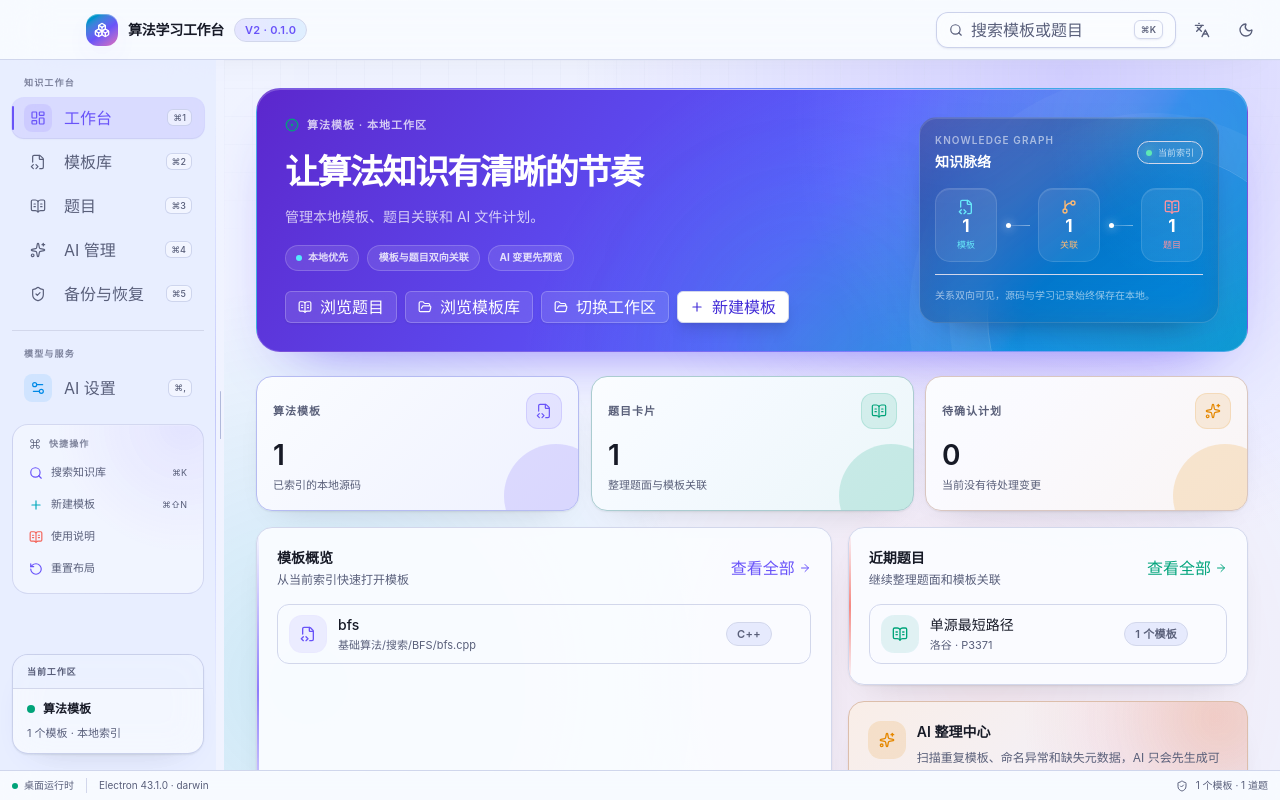
Test: App › opens a problem card from global search
This screenshot has width=1280, height=800.
Expected: the heading named "工作台" is shown, left=285, top=150, right=642, bottom=192
Click the button with aria-label "打开全局搜索": {"x": 1056, "y": 30} left=936, top=12, right=1176, bottom=48
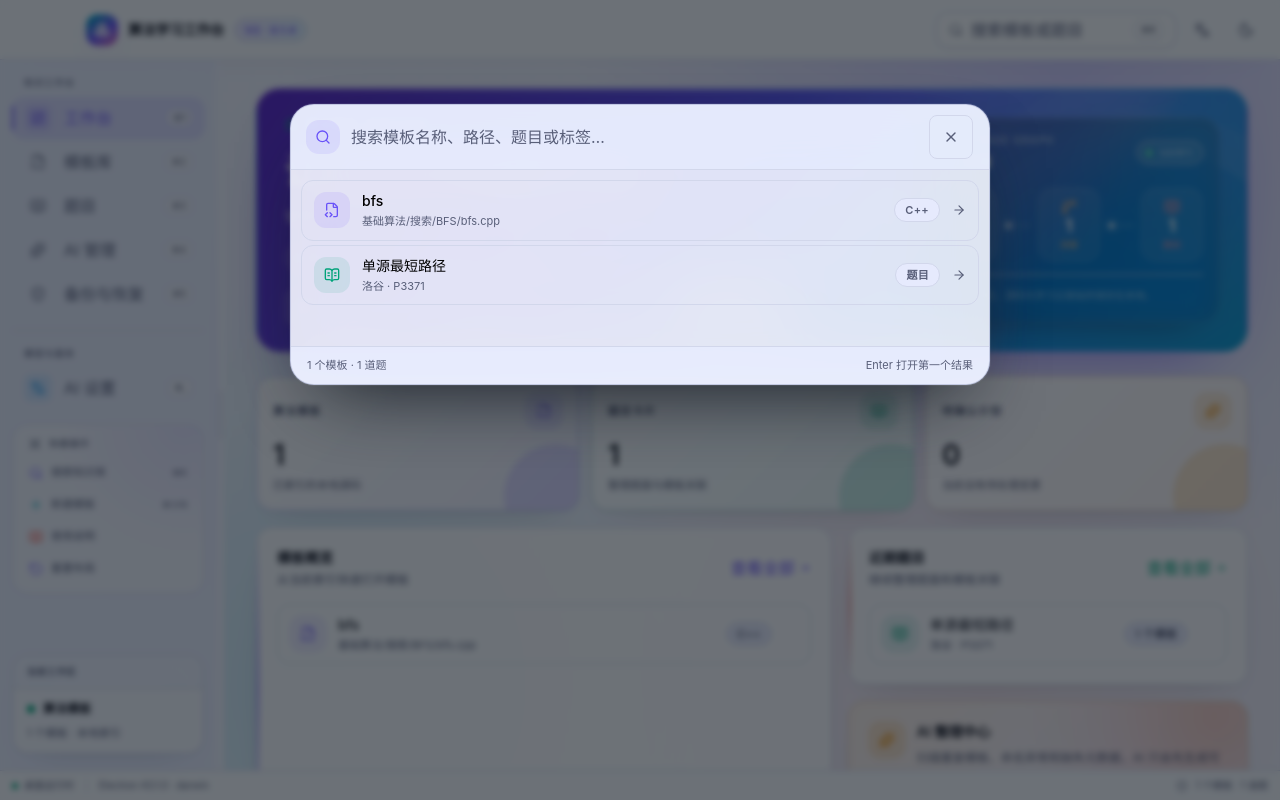
In the field named "搜索模板、题目或操作": {"x": 634, "y": 137} left=351, top=105, right=917, bottom=169, type "单源"
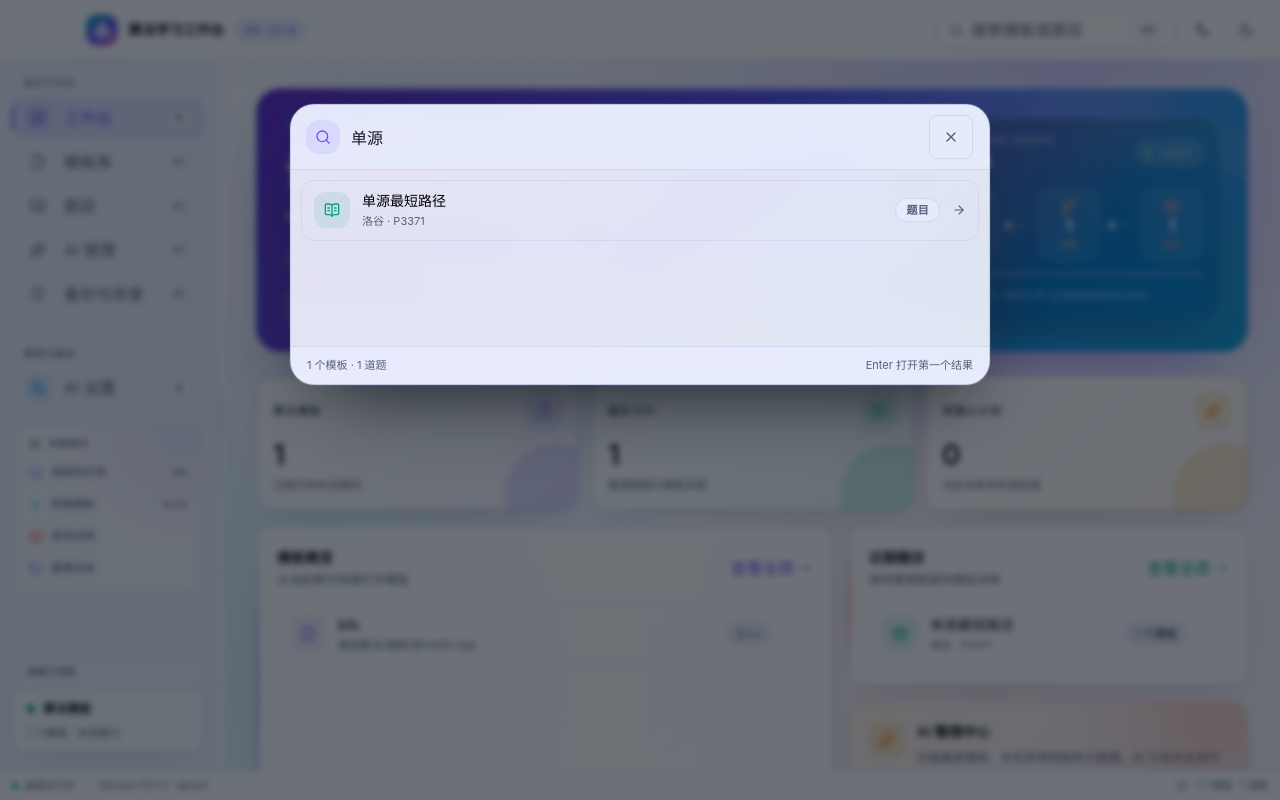
Click the button "单源最短路径 洛谷 · P3371 题目": {"x": 332, "y": 210} left=301, top=180, right=979, bottom=240
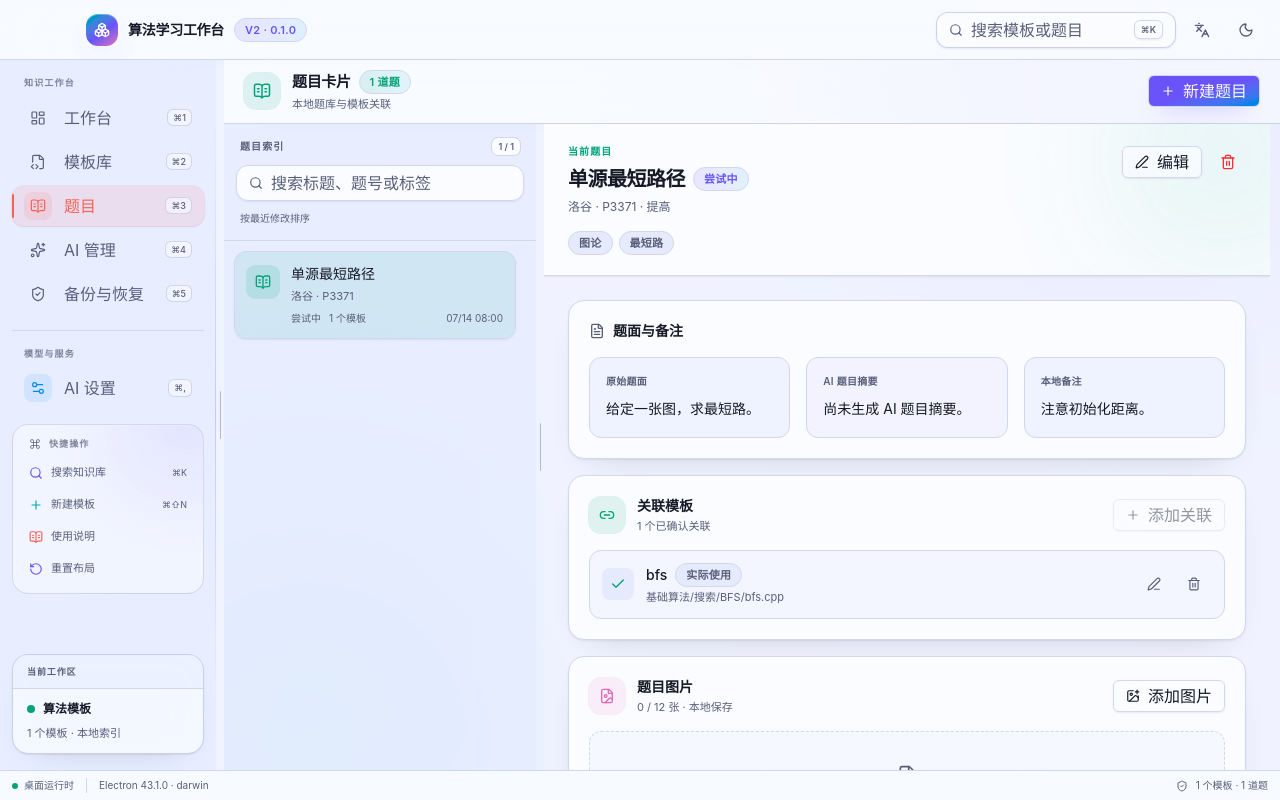
Result: the heading "单源最短路径" is shown at left=568, top=164, right=685, bottom=192
Result: the text "给定一张图，求最短路。" is shown at left=606, top=396, right=773, bottom=420
